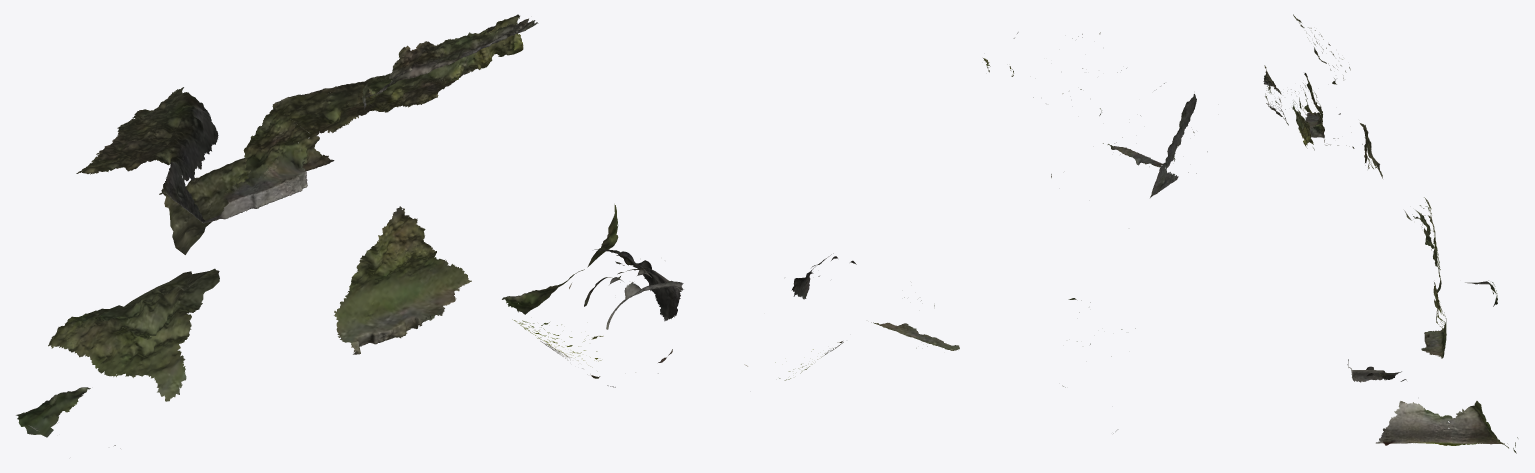
3 renders of one model, left to right at view 1: azimuth 30°, elevation 25°; view 2: azimuth 150°, elevation 25°; view 3: azimuth 270°, elevation 25°, orthographic. The views are drawn at different scales.
Size of the model in its own units: 41.04 by 30.27 by 24.69.
Materials: 1 (1 with a texture image).
